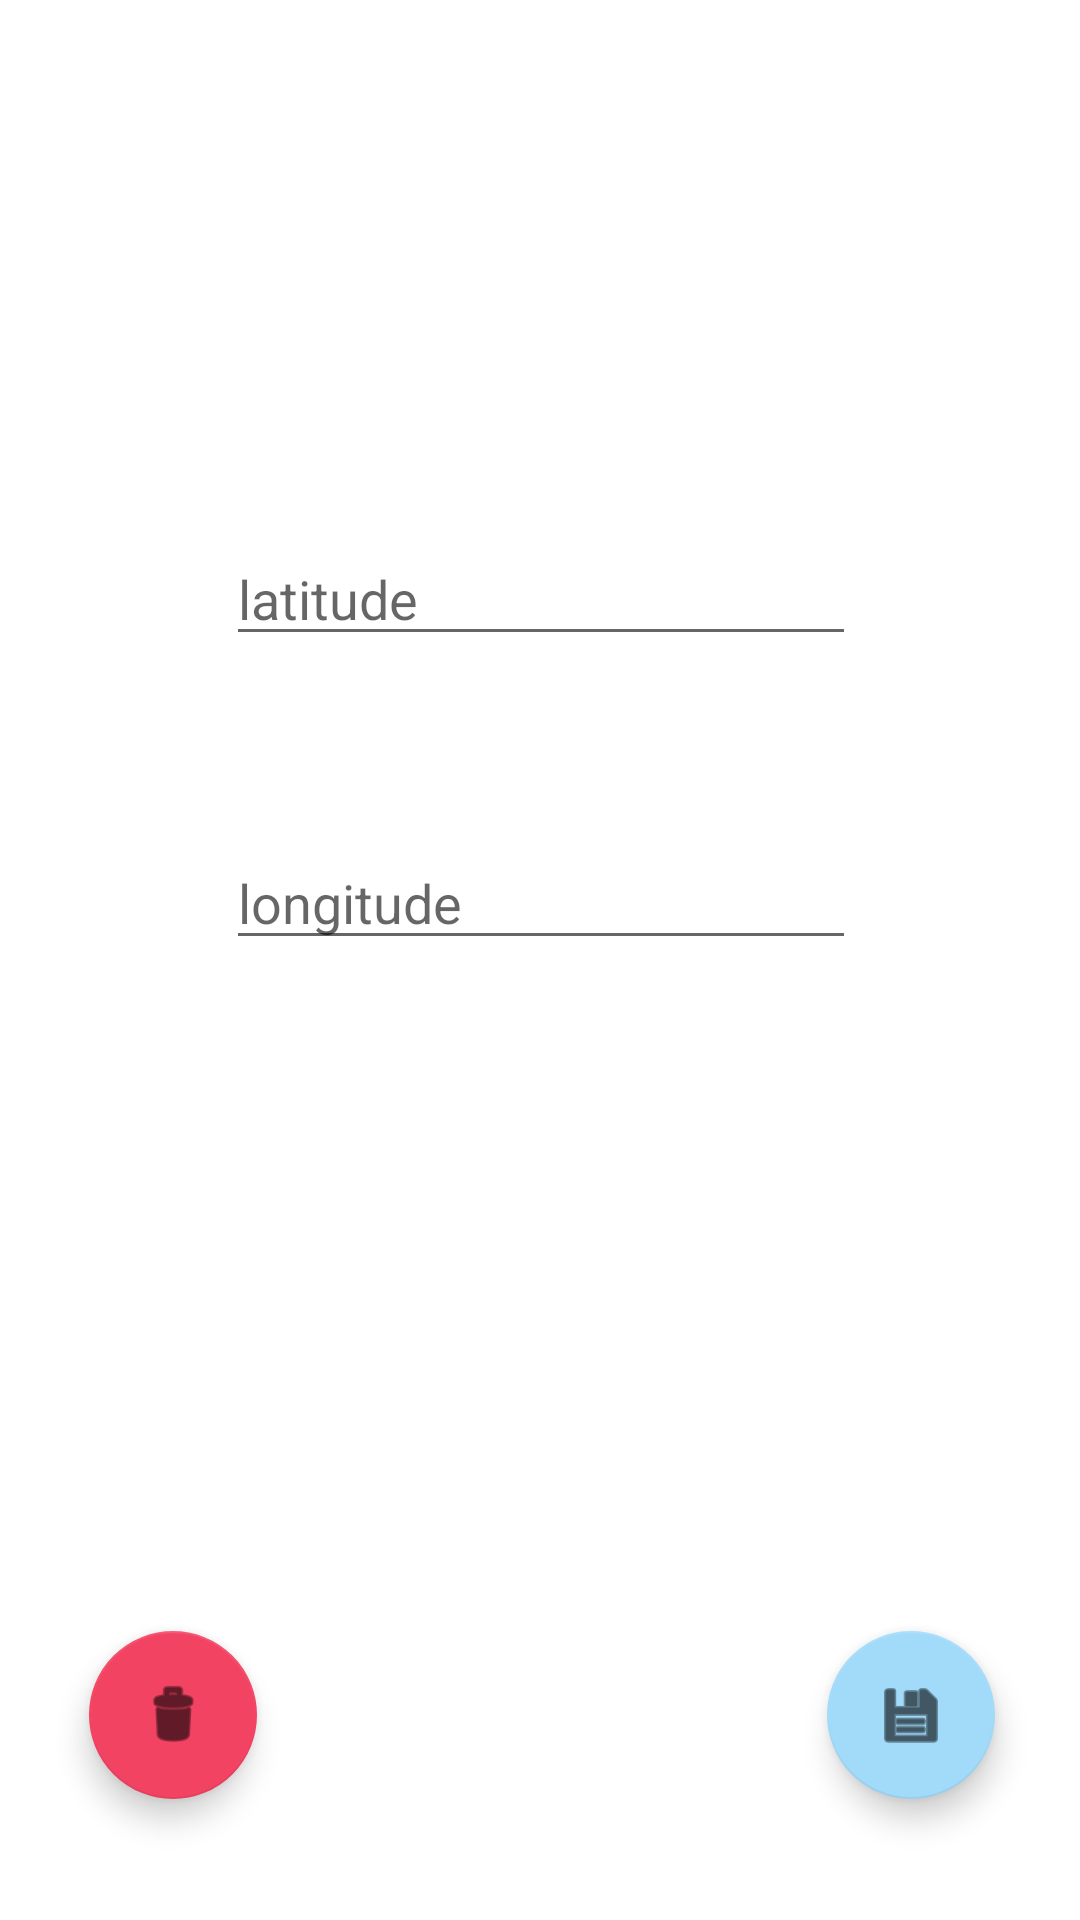

Where to tap for icons on this 1080 × 1920 app screen, as (x,y):
delete: (173,1715)
save: (911,1715)
